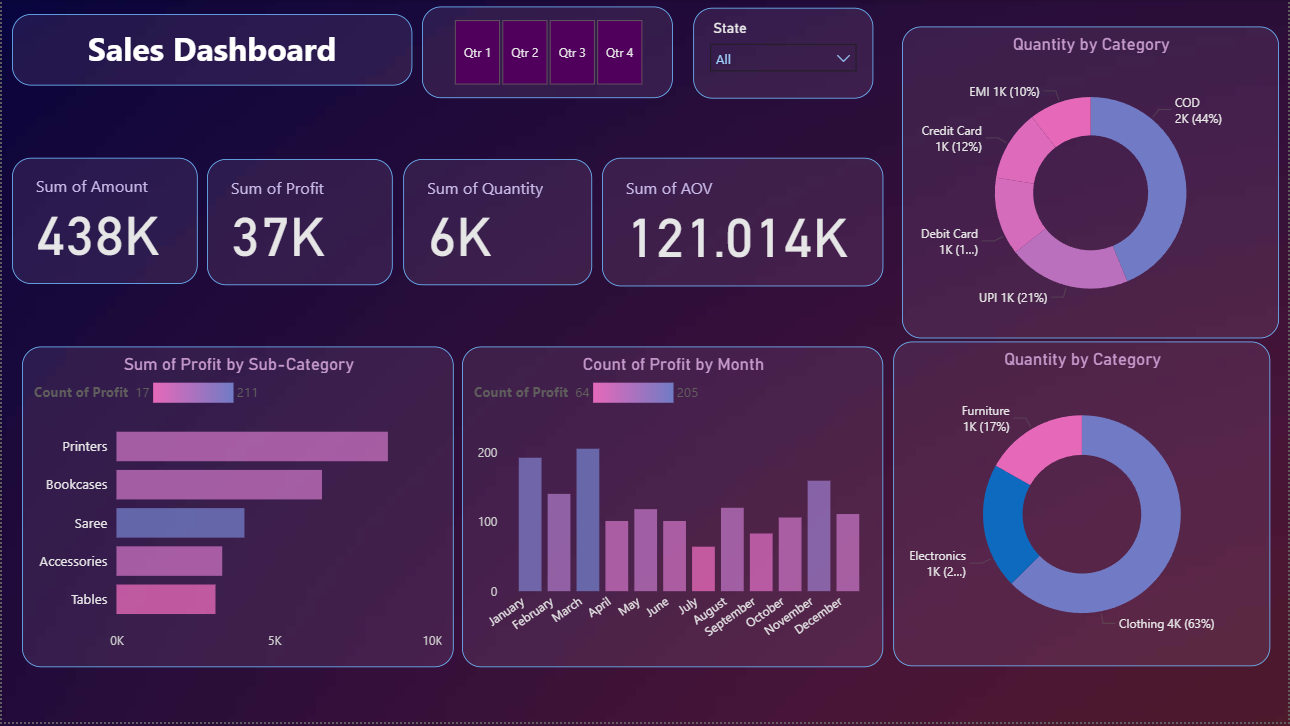

What the dashboard file says about the page in this screenshot:
{"tool":"powerbi","page":{"name":"Page 1","canvas":[1280,720],"ordinal":0},"visuals":[{"type":"textbox","box":[9.7,14.6,398.8,71],"z":0},{"type":"columnChart","fields":{"Y":["CountNonNull(Details.Profit)"],"Category":["Orders.Order Date.Variation.Date Hierarchy.Month"]},"box":[458.1,345.3,419.2,319],"z":1000},{"type":"barChart","fields":{"Category":["Details.Sub-Category"],"Y":["Sum(Details.Profit)"]},"box":[19.5,345.3,429.9,319],"z":2000},{"type":"donutChart","title":"Quantity by Category","fields":{"Category":["Details.Category"],"Y":["Sum(Details.Quantity)"]},"box":[887.1,341.4,375.4,322.9],"z":3000},{"type":"donutChart","title":"Quantity by Category","fields":{"Category":["Details.PaymentMode"],"Y":["Sum(Details.Quantity)"]},"box":[895.8,27.2,375.4,310.3],"z":4000},{"type":"cardVisual","fields":{"Data":["Sum(Details.Amount)"]},"box":[9.7,157.6,184.8,125.5],"z":5000},{"type":"cardVisual","fields":{"Data":["Sum(Details.Profit)"]},"box":[204.3,159.5,184.8,125.5],"z":6000},{"type":"cardVisual","fields":{"Data":["Sum(Details.Quantity)"]},"box":[399.8,159.5,187.7,125.5],"z":7000},{"type":"cardVisual","fields":{"Data":["Sum(Details.AOV)"]},"box":[597.2,158.5,280.1,128.4],"z":8000},{"type":"slicer","fields":{"Values":["Orders.Order Date.Variation.Date Hierarchy.Quarter"]},"box":[418.2,7.8,250,91.4],"z":9000},{"type":"slicer","fields":{"Values":["Orders.State"]},"box":[687.7,8.8,179,90.5],"z":10000}]}

Visuals, with their boxes in screenshot pixels (x1, y1, x2, y2), scaled from the page's 1280x720 canvas onto the 1290x726 screenshot:
textbox: [x1=10, y1=15, x2=412, y2=86]
columnChart - CountNonNull(Details.Profit) x Orders.Order Date.Variation.Date Hierarchy.Month: [x1=462, y1=348, x2=884, y2=670]
barChart - Details.Sub-Category x Sum(Details.Profit): [x1=20, y1=348, x2=453, y2=670]
"Quantity by Category" donutChart: [x1=894, y1=344, x2=1272, y2=670]
"Quantity by Category" donutChart: [x1=903, y1=27, x2=1281, y2=340]
cardVisual - Sum(Details.Amount): [x1=10, y1=159, x2=196, y2=285]
cardVisual - Sum(Details.Profit): [x1=206, y1=161, x2=392, y2=287]
cardVisual - Sum(Details.Quantity): [x1=403, y1=161, x2=592, y2=287]
cardVisual - Sum(Details.AOV): [x1=602, y1=160, x2=884, y2=289]
slicer - Orders.Order Date.Variation.Date Hierarchy.Quarter: [x1=421, y1=8, x2=673, y2=100]
slicer - Orders.State: [x1=693, y1=9, x2=873, y2=100]
